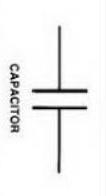Capacitor: (28, 72, 93, 120)
